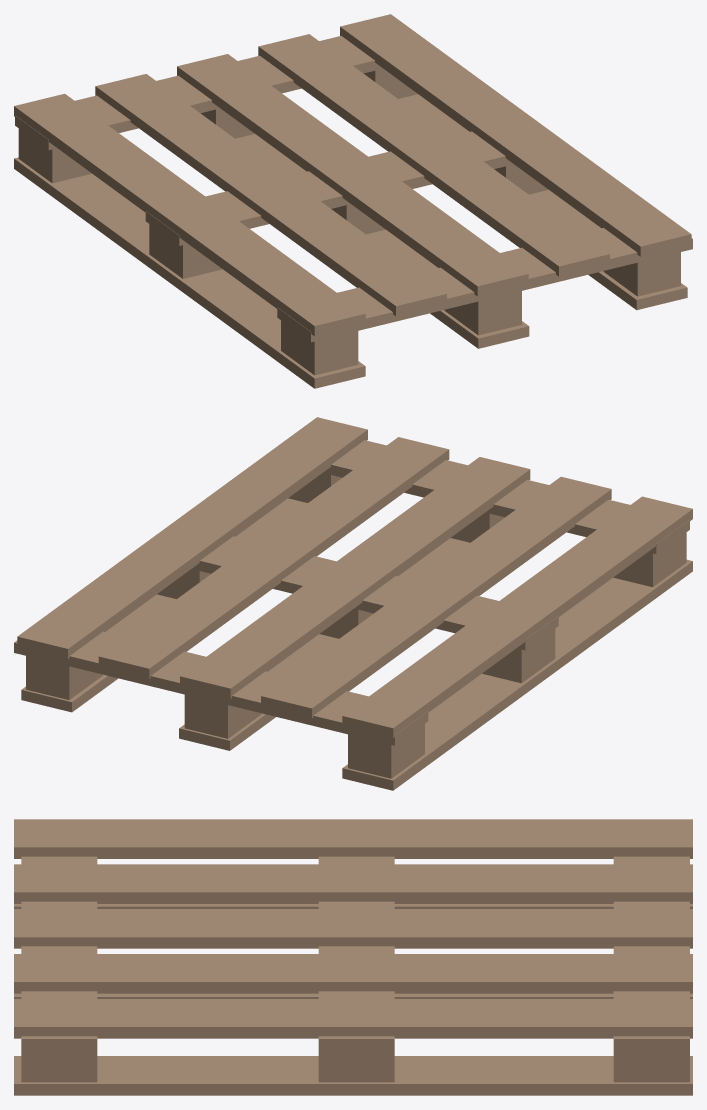
Rendered from env_pallet_01.glb.
3 views of the same model, one above another, from view 1: azimuth 30°, elevation 25°; view 2: azimuth 150°, elevation 25°; view 3: azimuth 270°, elevation 25° (orthographic). The views are drawn at different scales.
Visible parts, largest first — view 1: _tmp_env_env_pallet_01.obj; view 2: _tmp_env_env_pallet_01.obj; view 3: _tmp_env_env_pallet_01.obj.
Part boxes in pixels (left/top/right/bottom): _tmp_env_env_pallet_01.obj: left=14, top=14, right=692, bottom=388; _tmp_env_env_pallet_01.obj: left=14, top=417, right=692, bottom=790; _tmp_env_env_pallet_01.obj: left=14, top=819, right=692, bottom=1095.
Bounding box in the file's own units: 0.8925 × 0.14 × 1.22.
